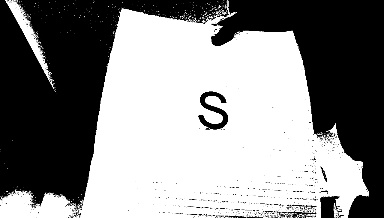S: (192, 84, 232, 131)
